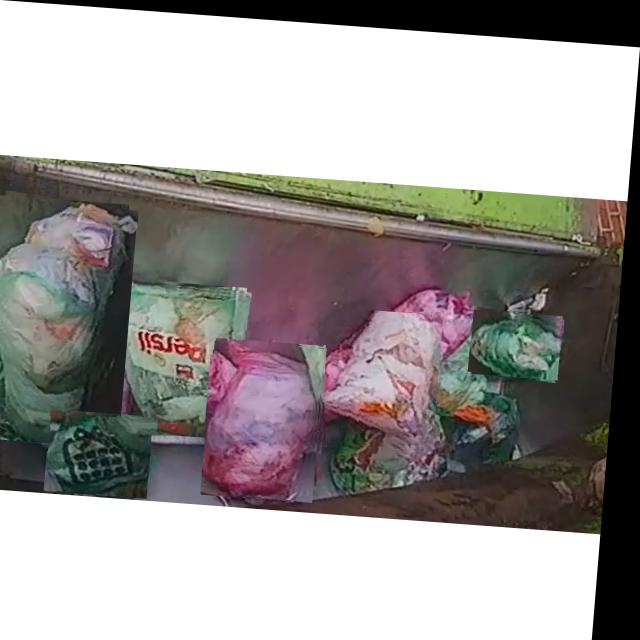general_trashbag: (0, 202, 140, 442), (115, 280, 241, 434), (58, 415, 157, 491), (475, 311, 566, 369)
other_trashbag: (210, 336, 324, 495), (326, 305, 446, 441)
